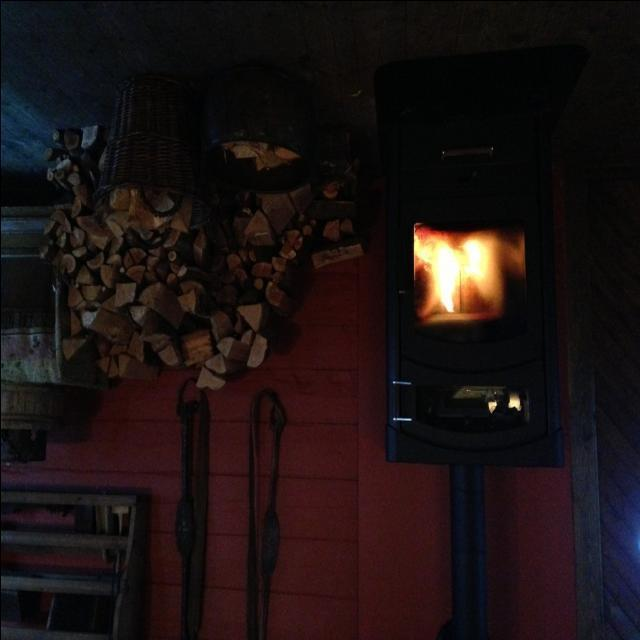Fire: (409, 220, 529, 332)
